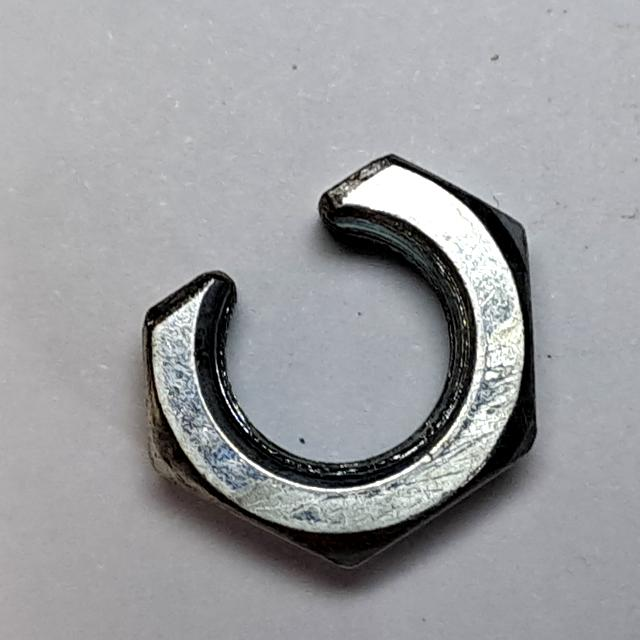Fracture: (132, 143, 553, 586)
